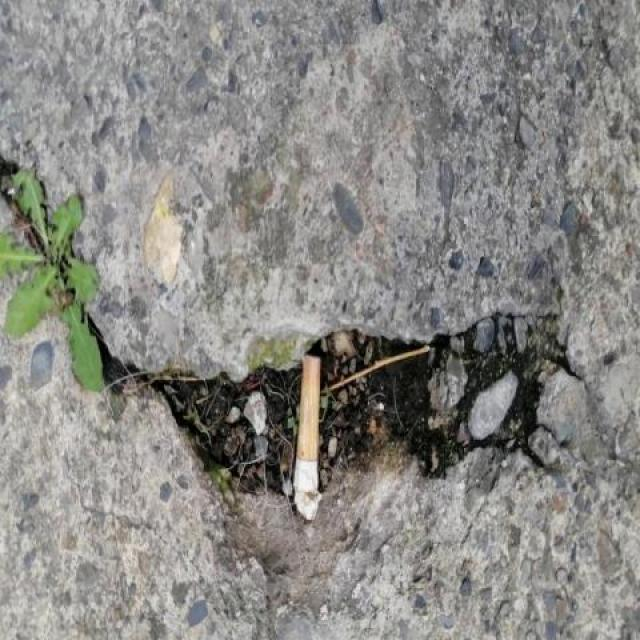non-organic waste: (286, 348, 330, 503)
